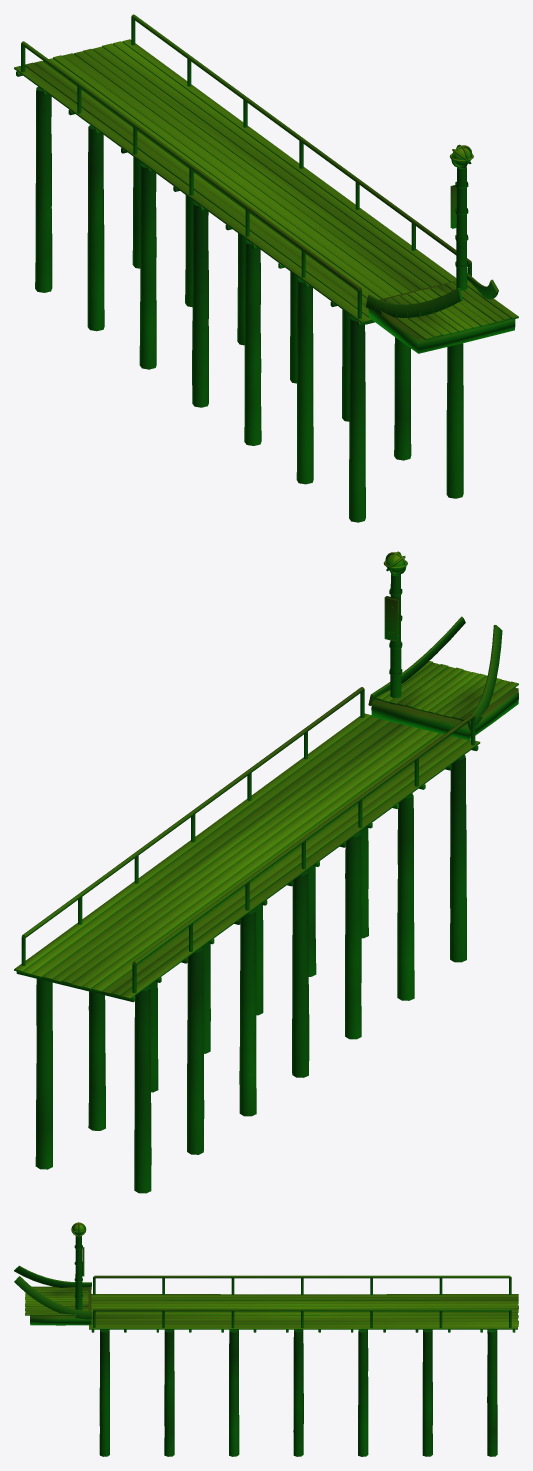
File: captain_platform.glb
3 views of the same model, one above another, from view 1: azimuth 30°, elevation 25°; view 2: azimuth 150°, elevation 25°; view 3: azimuth 270°, elevation 25° (orthographic). The views are drawn at different scales.
Visible parts, largest first — view 1: captain_platform; view 2: captain_platform; view 3: captain_platform.
Boxes of the visible parts, x1,y1,x2,y2 form: captain_platform: [14, 14, 518, 522]; captain_platform: [14, 551, 518, 1193]; captain_platform: [14, 1222, 518, 1456].
Size of what is drawn, in the model's own units: 3.21 by 9.72 by 19.55.
